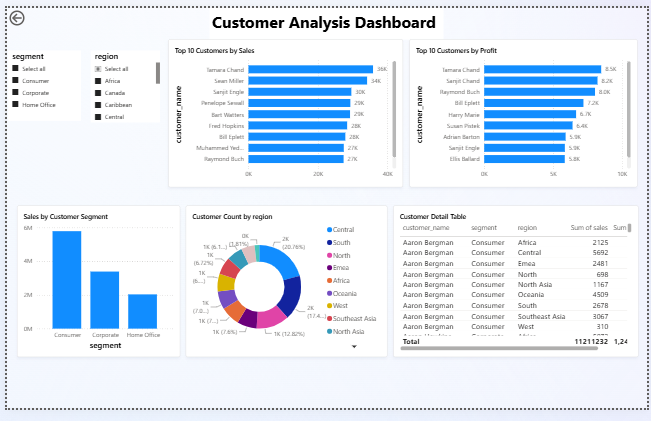

The page's visual inventory and layout, read from the dashboard file:
{"tool":"powerbi","page":{"name":"Customer","canvas":[1280,800],"ordinal":2},"visuals":[{"type":"slicer","fields":{"Values":["superstore_cleaned_complete.segment"]},"box":[3.7,84.4,145.5,140.6],"z":0},{"type":"slicer","fields":{"Values":["superstore_cleaned_complete.region"]},"box":[166.3,84.4,138.2,144.3],"z":1000},{"type":"textbox","box":[404.8,0,468.3,63.6],"z":2000},{"type":"clusteredBarChart","title":"Top 10 Customers by Sales","fields":{"Category":["superstore_cleaned_complete.customer_name"],"Y":["superstore_cleaned_complete.Total Sales"]},"box":[321.6,63.6,469.6,295.9],"z":3000},{"type":"clusteredBarChart","title":"Top 10 Customers by Profit","fields":{"Category":["superstore_cleaned_complete.customer_name"],"Y":["superstore_cleaned_complete.Total Profit"]},"box":[805.8,63.6,456.1,295.9],"z":4000},{"type":"clusteredColumnChart","title":"Sales by Customer Segment","fields":{"Category":["superstore_cleaned_complete.segment"],"Y":["superstore_cleaned_complete.Total Sales"]},"box":[19.6,395,326.5,303.3],"z":5000},{"type":"donutChart","fields":{"Category":["superstore_cleaned_complete.region"],"Y":["superstore_cleaned_complete.Customer Count"]},"box":[357.1,395,403.5,303.3],"z":6000},{"type":"tableEx","title":"Customer Detail Table","fields":{"Values":["superstore_cleaned_complete.customer_name","superstore_cleaned_complete.segment","superstore_cleaned_complete.region","Sum(superstore_cleaned_complete.sales)","Sum(superstore_cleaned_complete.profit)"]},"box":[771.6,395,490.4,303.3],"z":7000},{"type":"actionButton","box":[0,0,100,40],"z":8000}]}

Visuals, with their boxes on the page's 1280x800 design canvas (x1, y1, x2, y2). These are canvas units, not pixel positions in the 651x421 screenshot, which may show the page scaled, cropped or inside an application window:
slicer - superstore_cleaned_complete.segment: bbox=(4, 84, 149, 225)
slicer - superstore_cleaned_complete.region: bbox=(166, 84, 304, 229)
textbox: bbox=(405, 0, 873, 64)
"Top 10 Customers by Sales" clusteredBarChart: bbox=(322, 64, 791, 360)
"Top 10 Customers by Profit" clusteredBarChart: bbox=(806, 64, 1262, 360)
"Sales by Customer Segment" clusteredColumnChart: bbox=(20, 395, 346, 698)
donutChart - superstore_cleaned_complete.region x superstore_cleaned_complete.Customer Count: bbox=(357, 395, 761, 698)
"Customer Detail Table" tableEx: bbox=(772, 395, 1262, 698)
actionButton: bbox=(0, 0, 100, 40)
